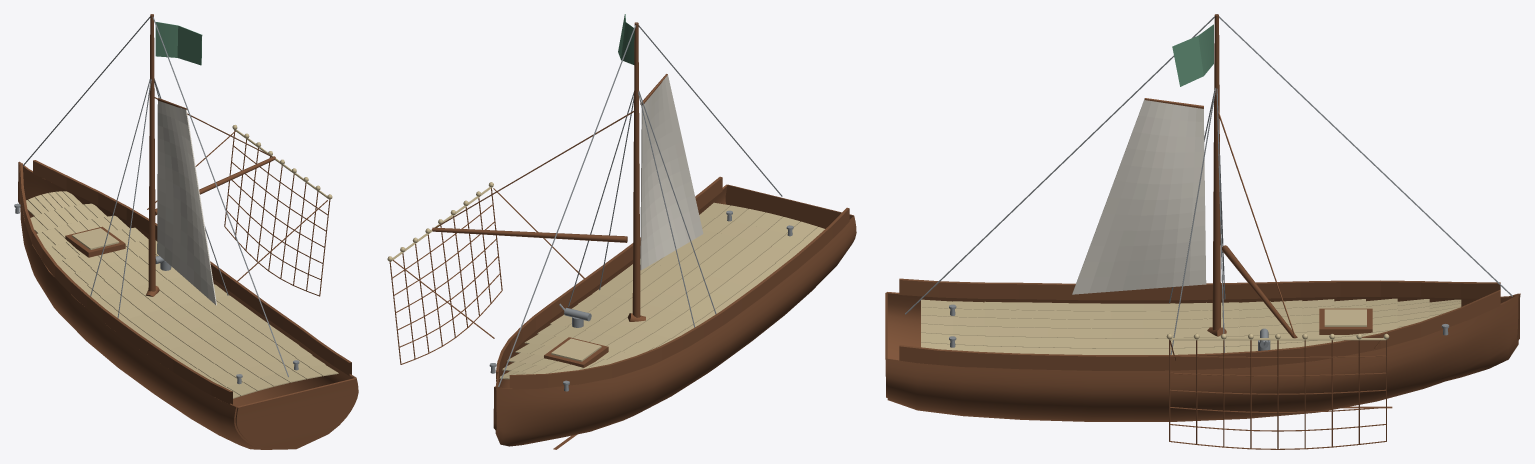
File: SM_Pesquero.glb
3 views of the same model, side by side, from view 1: azimuth 30°, elevation 25°; view 2: azimuth 150°, elevation 25°; view 3: azimuth 270°, elevation 25° (orthographic). The views are drawn at different scales.
Parts seen in each view (by area): view 1: SM_Pesquero; view 2: SM_Pesquero; view 3: SM_Pesquero.
Part boxes in pixels (<box>): SM_Pesquero: <box>14,14,358,449</box>; SM_Pesquero: <box>387,14,856,449</box>; SM_Pesquero: <box>885,14,1520,449</box>.
Size of the model in its own units: 7.57 by 11.14 by 16.11.
